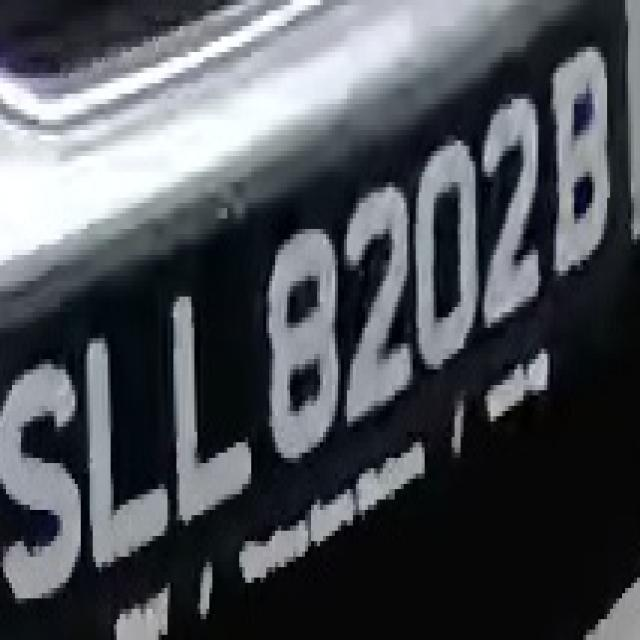0: (404, 130, 476, 396)
2: (335, 187, 422, 427), (469, 88, 542, 354)
8: (254, 214, 344, 468)
B: (541, 26, 616, 286)
L: (165, 276, 257, 536), (78, 312, 167, 562)
S: (6, 333, 84, 614)
